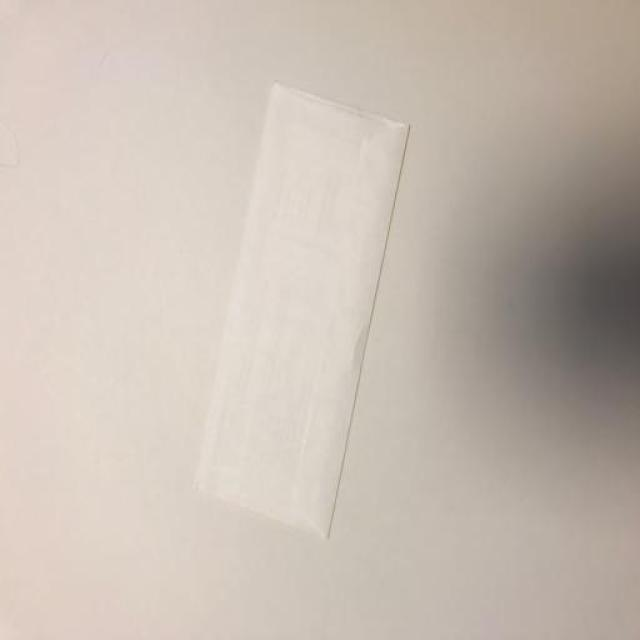paper: (192, 79, 410, 538)
